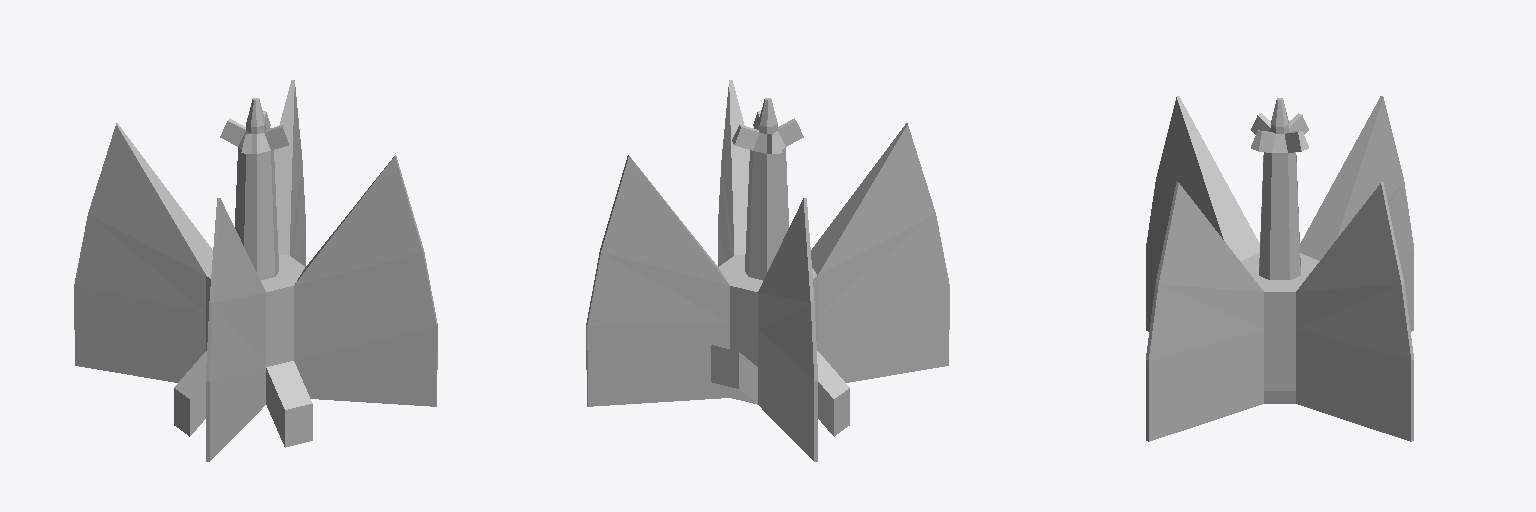
Rendered from WarpCapacitor.obj.
3 views of the same model, side by side, from view 1: azimuth 30°, elevation 25°; view 2: azimuth 150°, elevation 25°; view 3: azimuth 270°, elevation 25° (orthographic).
Size of the model in its own units: 4.57 by 5.91 by 4.58.